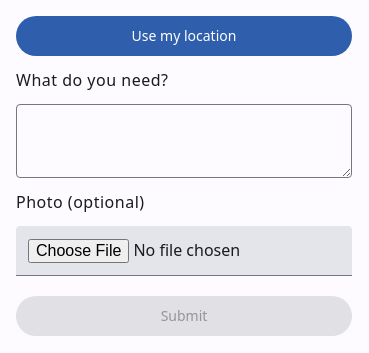
Test: IntakeForm › Submit is disabled until both location and a non-empty description are present
Expected: the button "Submit" is disabled, top-left (16, 296), bottom-right (352, 336)
In the text box labelled "What do you need?": coordinates (184, 141) top-left (16, 104), bottom-right (352, 178), type "need water"
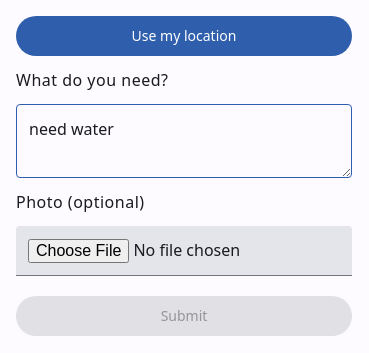
Expected: the button "Submit" is disabled, top-left (16, 296), bottom-right (352, 336)
Click the button "Use my location": coordinates (184, 36) top-left (16, 16), bottom-right (352, 56)
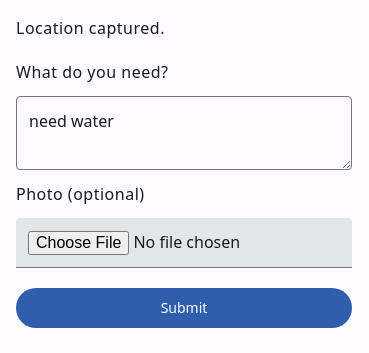
Now the button "Submit" is enabled, box top-left (16, 288), bottom-right (352, 328)
